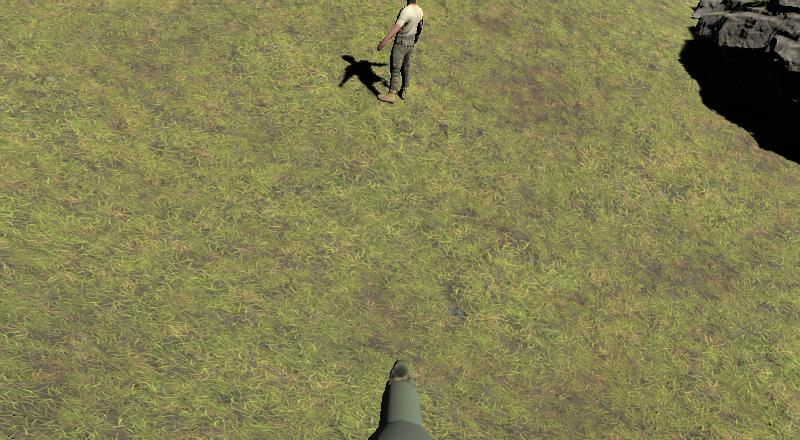Human: (373, 0, 431, 107)
